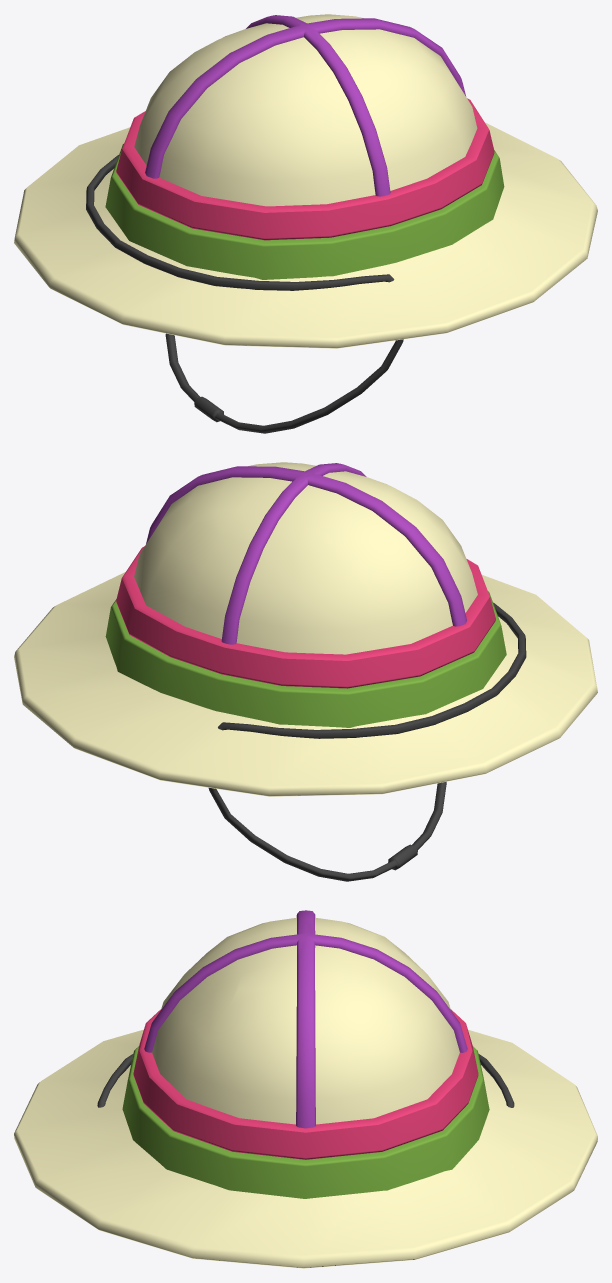
File: Archaeologists_Hat.fbx
The picture shows the model from 3 angles, top to bottom: view 1: azimuth 30°, elevation 25°; view 2: azimuth 150°, elevation 25°; view 3: azimuth 270°, elevation 25°; orthographic projection.
Parts seen in each view (by area): view 1: Archaeologists_Hat; view 2: Archaeologists_Hat; view 3: Archaeologists_Hat.
Part boxes in pixels (x1=…): Archaeologists_Hat: x1=14, y1=14, x2=597, y2=433; Archaeologists_Hat: x1=14, y1=462, x2=597, y2=881; Archaeologists_Hat: x1=14, y1=910, x2=597, y2=1268.
Bounding box in the file's own units: 723 × 495 × 703.
